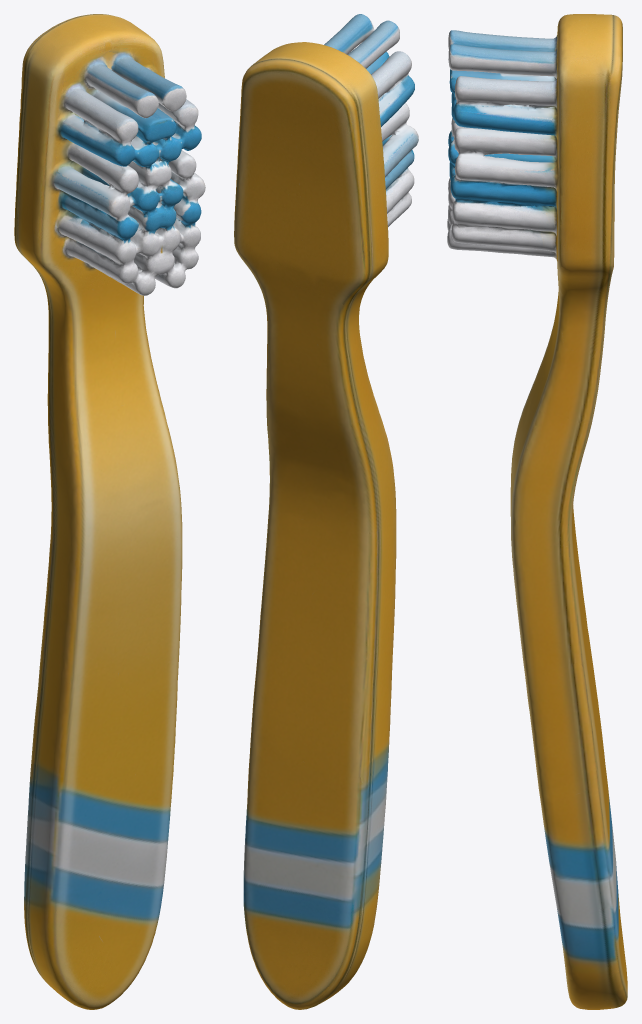
File: brush_boomerang.glb
3 renders of one model, left to right at view 1: azimuth 30°, elevation 25°; view 2: azimuth 150°, elevation 25°; view 3: azimuth 270°, elevation 25°, orthographic. The views are drawn at different scales.
Visible parts, largest first — view 1: mesh_node; view 2: mesh_node; view 3: mesh_node.
Boxes of the visible parts, x1,y1,x2,y2 form: mesh_node: (14, 14, 205, 1009); mesh_node: (234, 14, 418, 1009); mesh_node: (447, 14, 627, 1009).
Bounding box in the file's own units: 0.2846 × 1.9 × 0.3159.
1 material, 1 textured.
